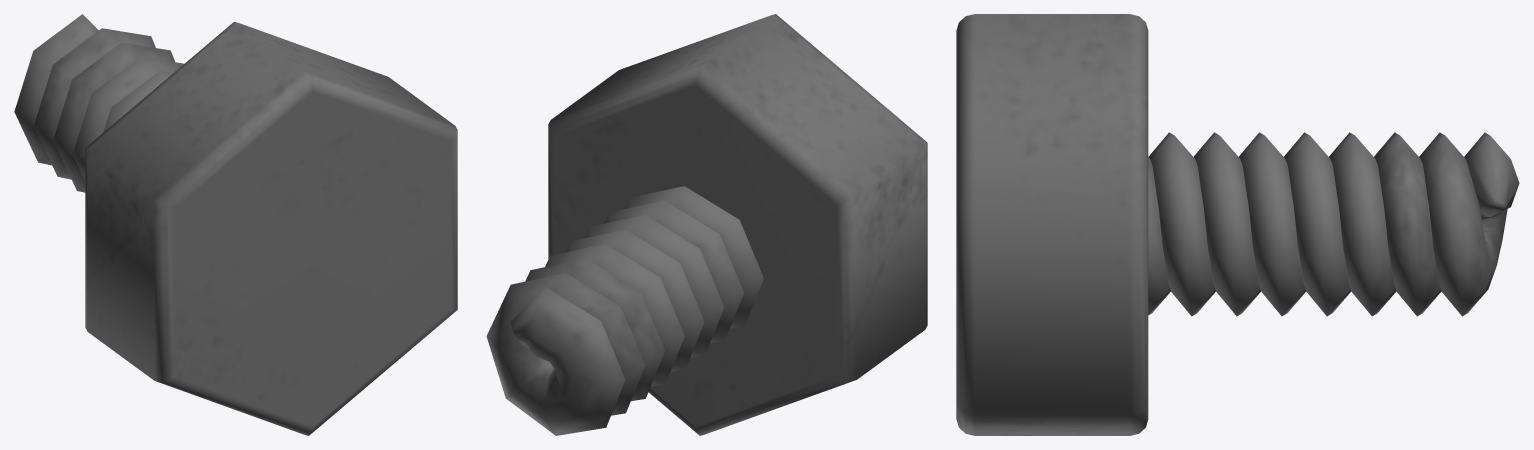
File: tornillo.fbx
3 views of the same model, side by side, from view 1: azimuth 30°, elevation 25°; view 2: azimuth 150°, elevation 25°; view 3: azimuth 270°, elevation 25° (orthographic). The views are drawn at different scales.
Visible parts, largest first — view 1: tornillo; view 2: tornillo; view 3: tornillo.
Part boxes in pixels (x1=…): tornillo: x1=14, y1=14, x2=457, y2=435; tornillo: x1=486, y1=14, x2=927, y2=435; tornillo: x1=956, y1=14, x2=1519, y2=435.
Bounding box in the file's own units: 60.97 × 70.41 × 85.14.
